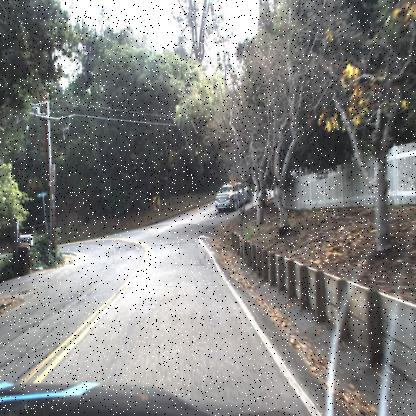car: (211, 178, 249, 214)
